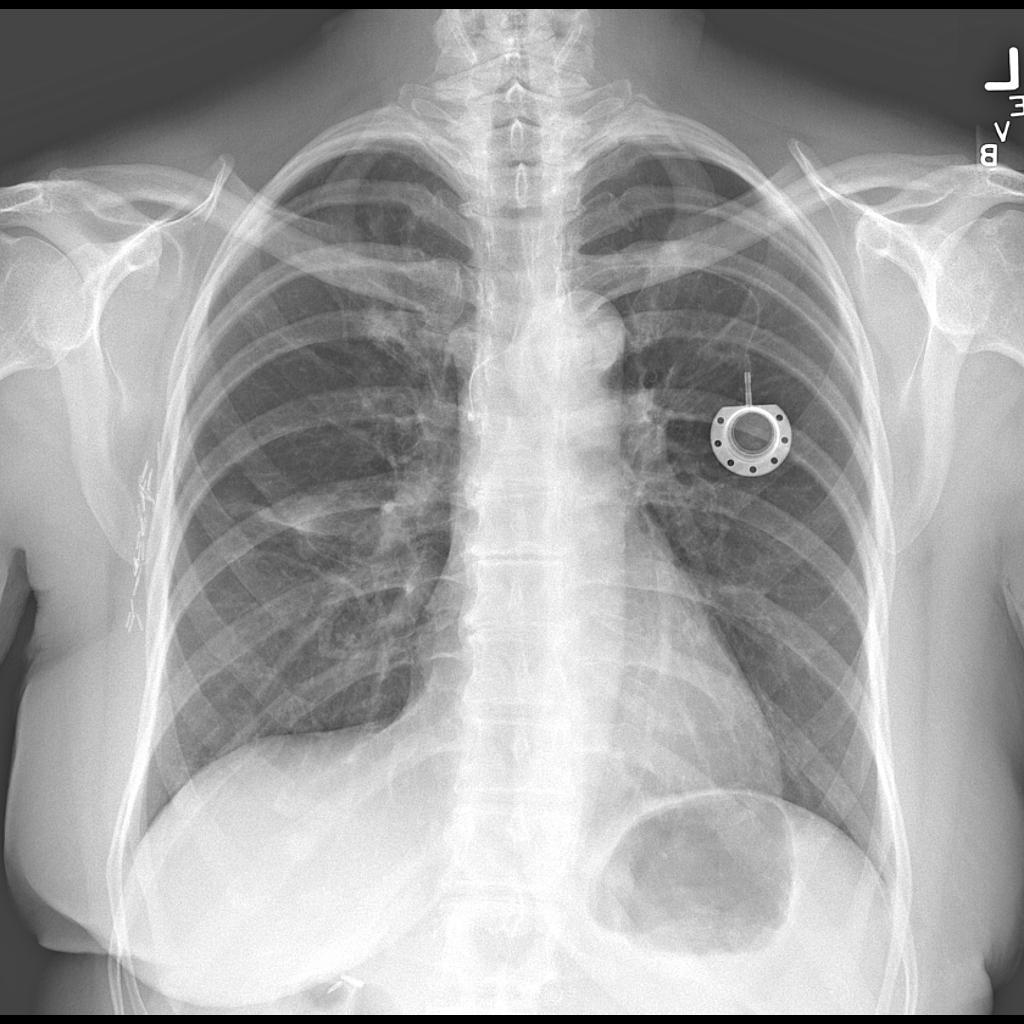Nodule: (278, 489, 339, 564), (352, 295, 414, 354)
